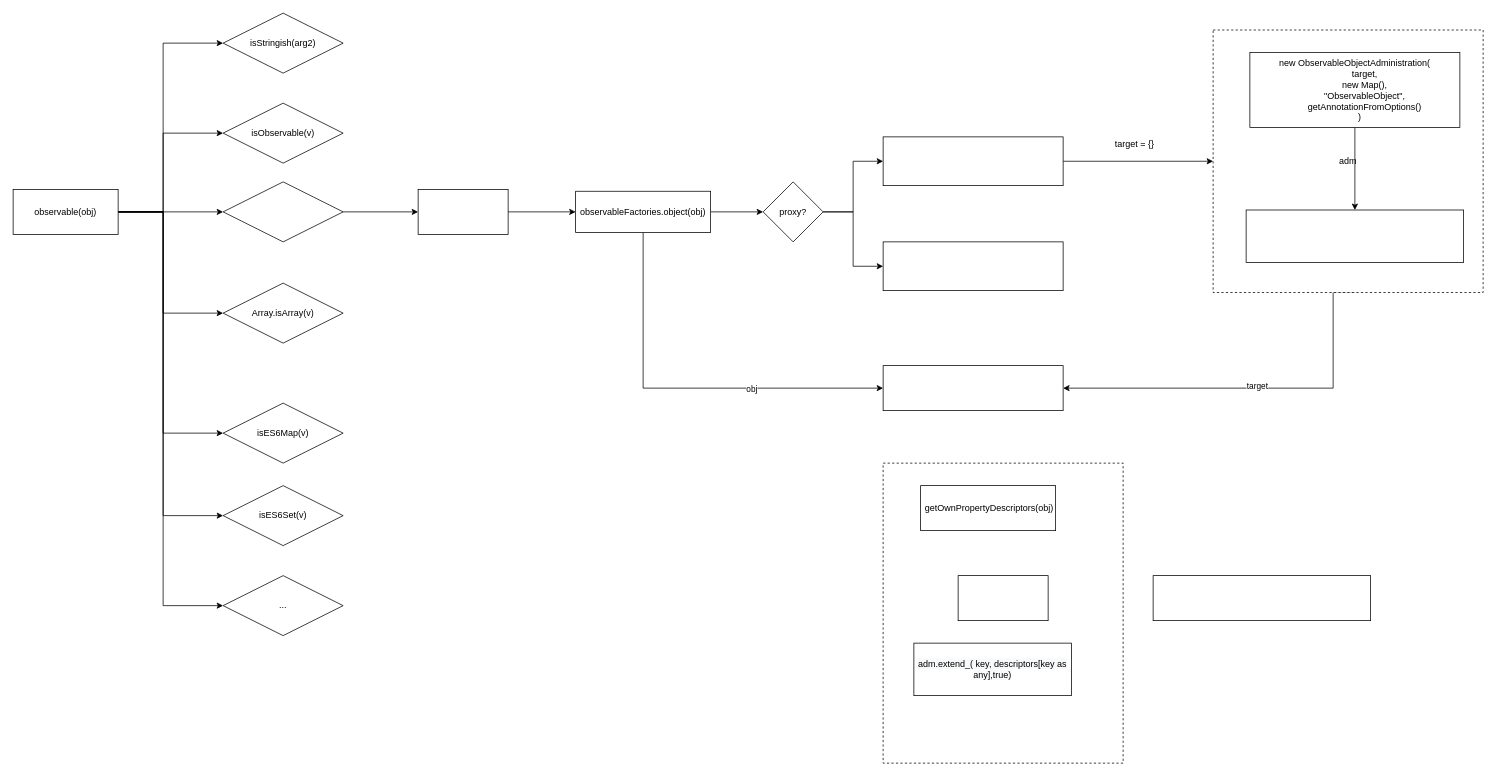
Image size: 1496x776. Some labels were removed from this diagram. The centre of each missing label's shape, as x and y in pixels:
addHiddenProp(target, Symbol("mobx administration") adm): pixel 1354 235
asDynamicObservableObject({}): pixel 972 266
asObservableObject({}): pixel 972 161
extendObservable(target,obj): pixel 972 388
isPlainObject(v): pixel 282 211
observable.object(obj): pixel 462 211
ownKeys(descriptors).forEach(key => { }): pixel 1261 598
